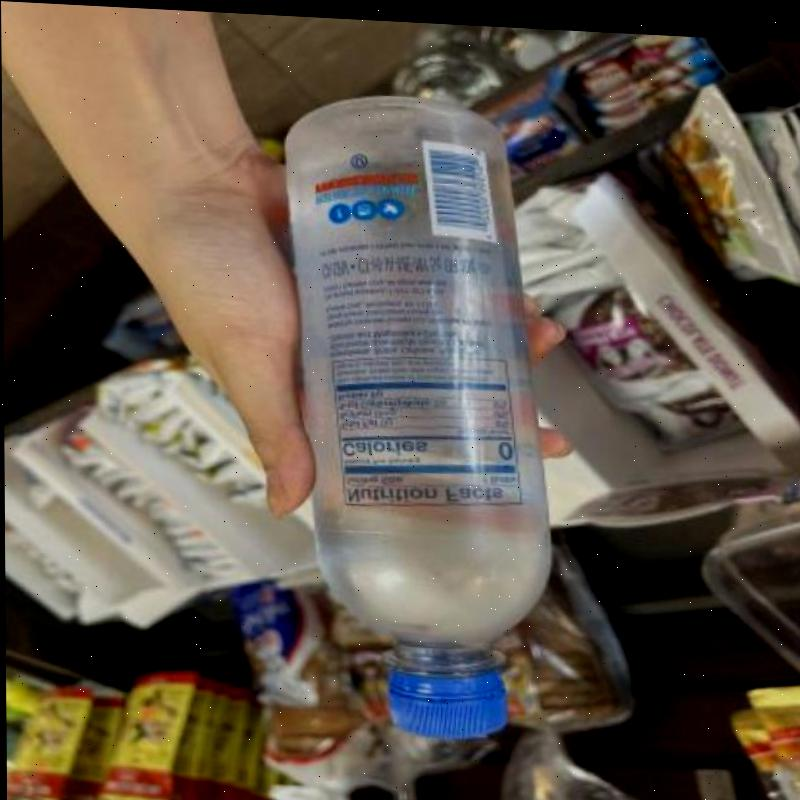botella: (283, 86, 556, 736)
